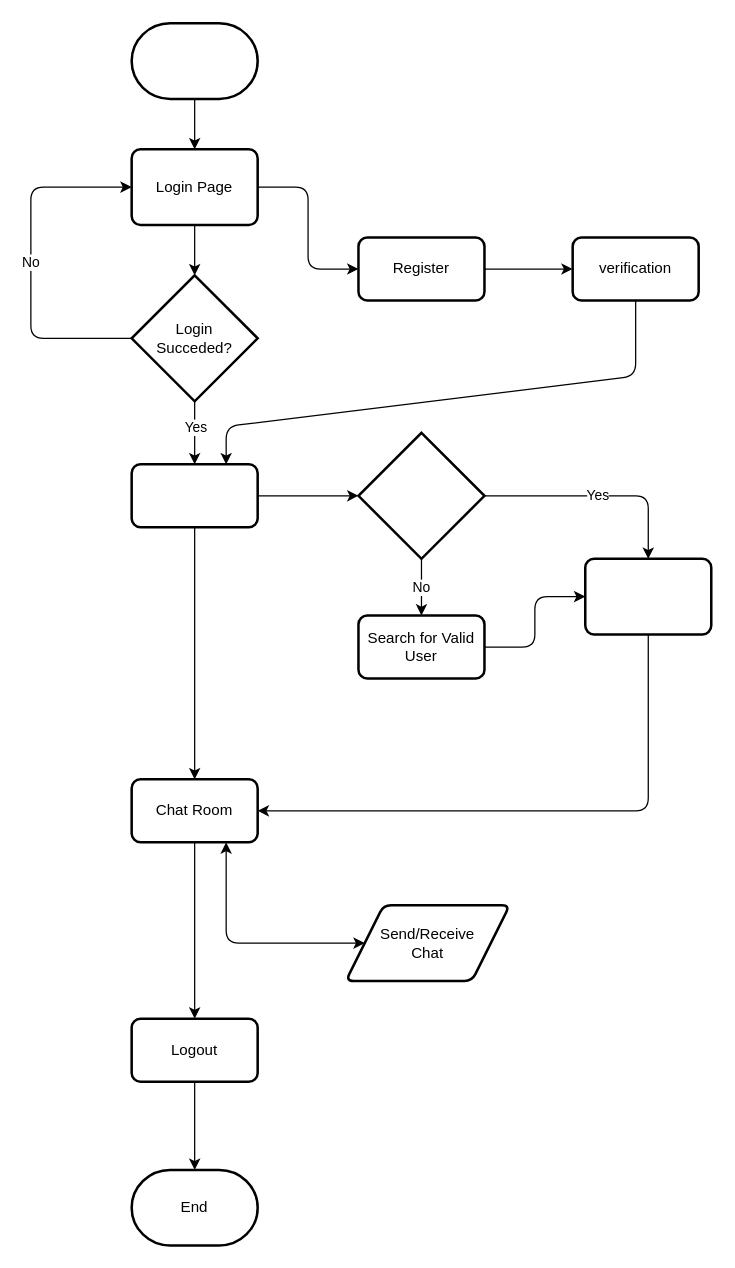
Some shapes in this 735 by 1268 pixel diagram are drawn without their labels. Each missing label, with the box of its shape:
Display Contact page: (583, 557, 712, 635)
Home Page: (130, 462, 258, 528)
Search for Contact?: (357, 431, 485, 559)
Start: (130, 21, 258, 100)
